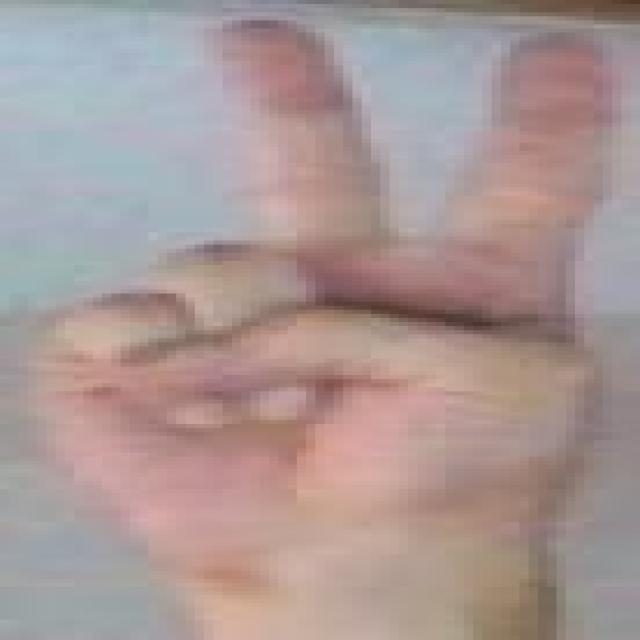V: (0, 0, 640, 611)
